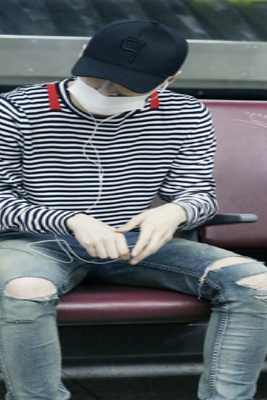mask_weared_incorrect: (63, 77, 158, 117)
